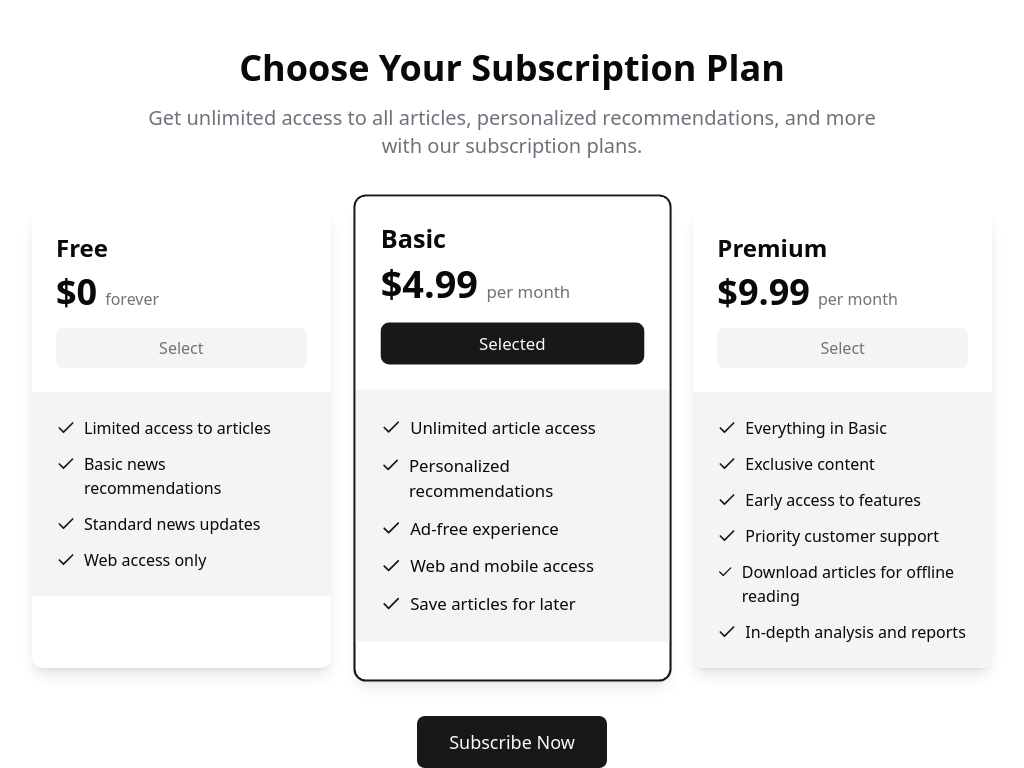
Test: Subscription Component › allows selecting different plans
Expected: the button "Selected" is shown, x1=380 y1=322 x2=644 y2=364
// Select Free plan
Click the button "Select" below "$0" at (181, 348), box x1=56 y1=328 x2=307 y2=368
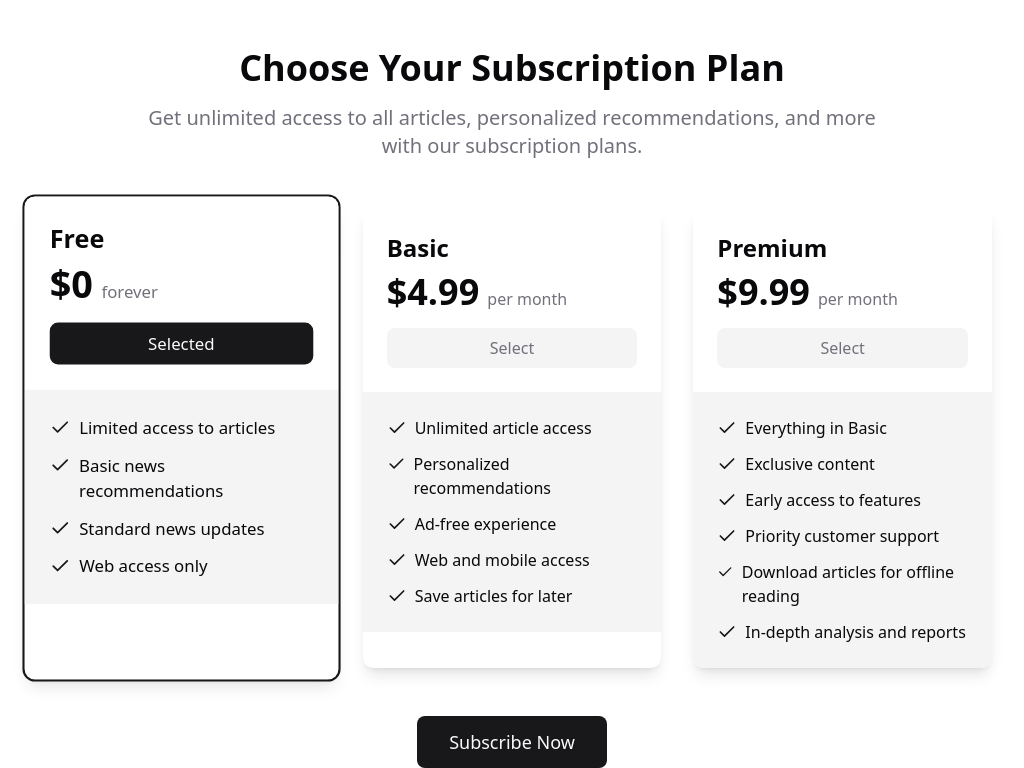
Expected: the button "Selected" is shown, x1=50 y1=322 x2=313 y2=364
// Select Premium plan
Click the button "Select" below "$9.99" at (843, 348), box x1=717 y1=328 x2=968 y2=368
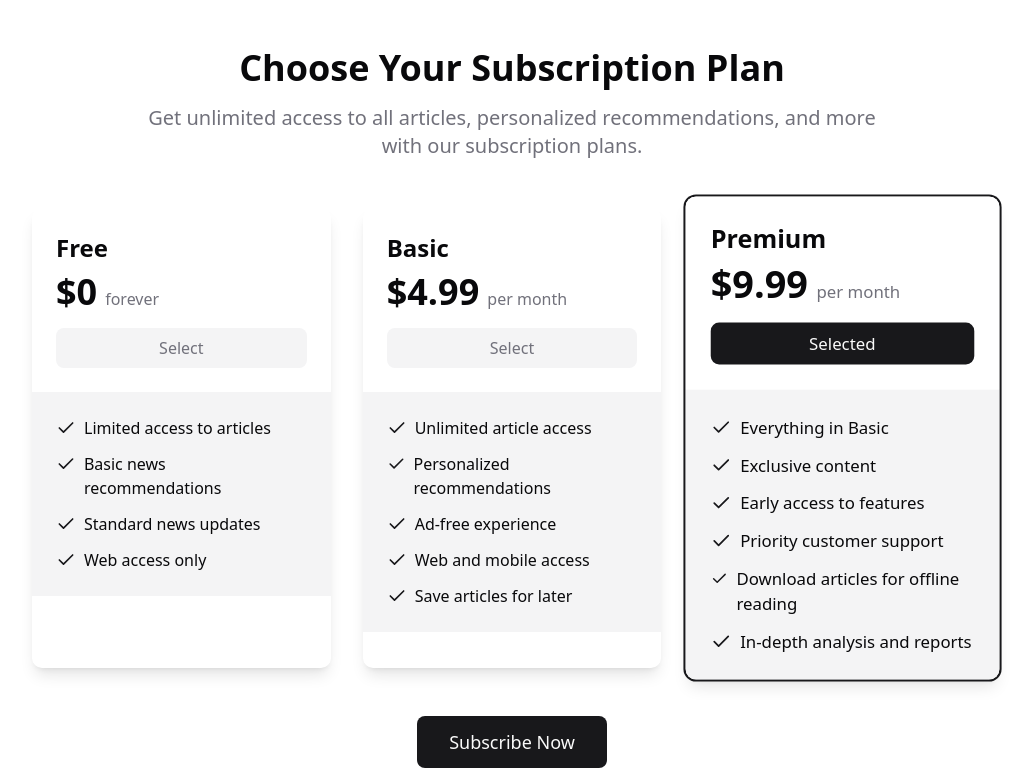
Expected: the button "Selected" is shown, x1=711 y1=322 x2=974 y2=364
